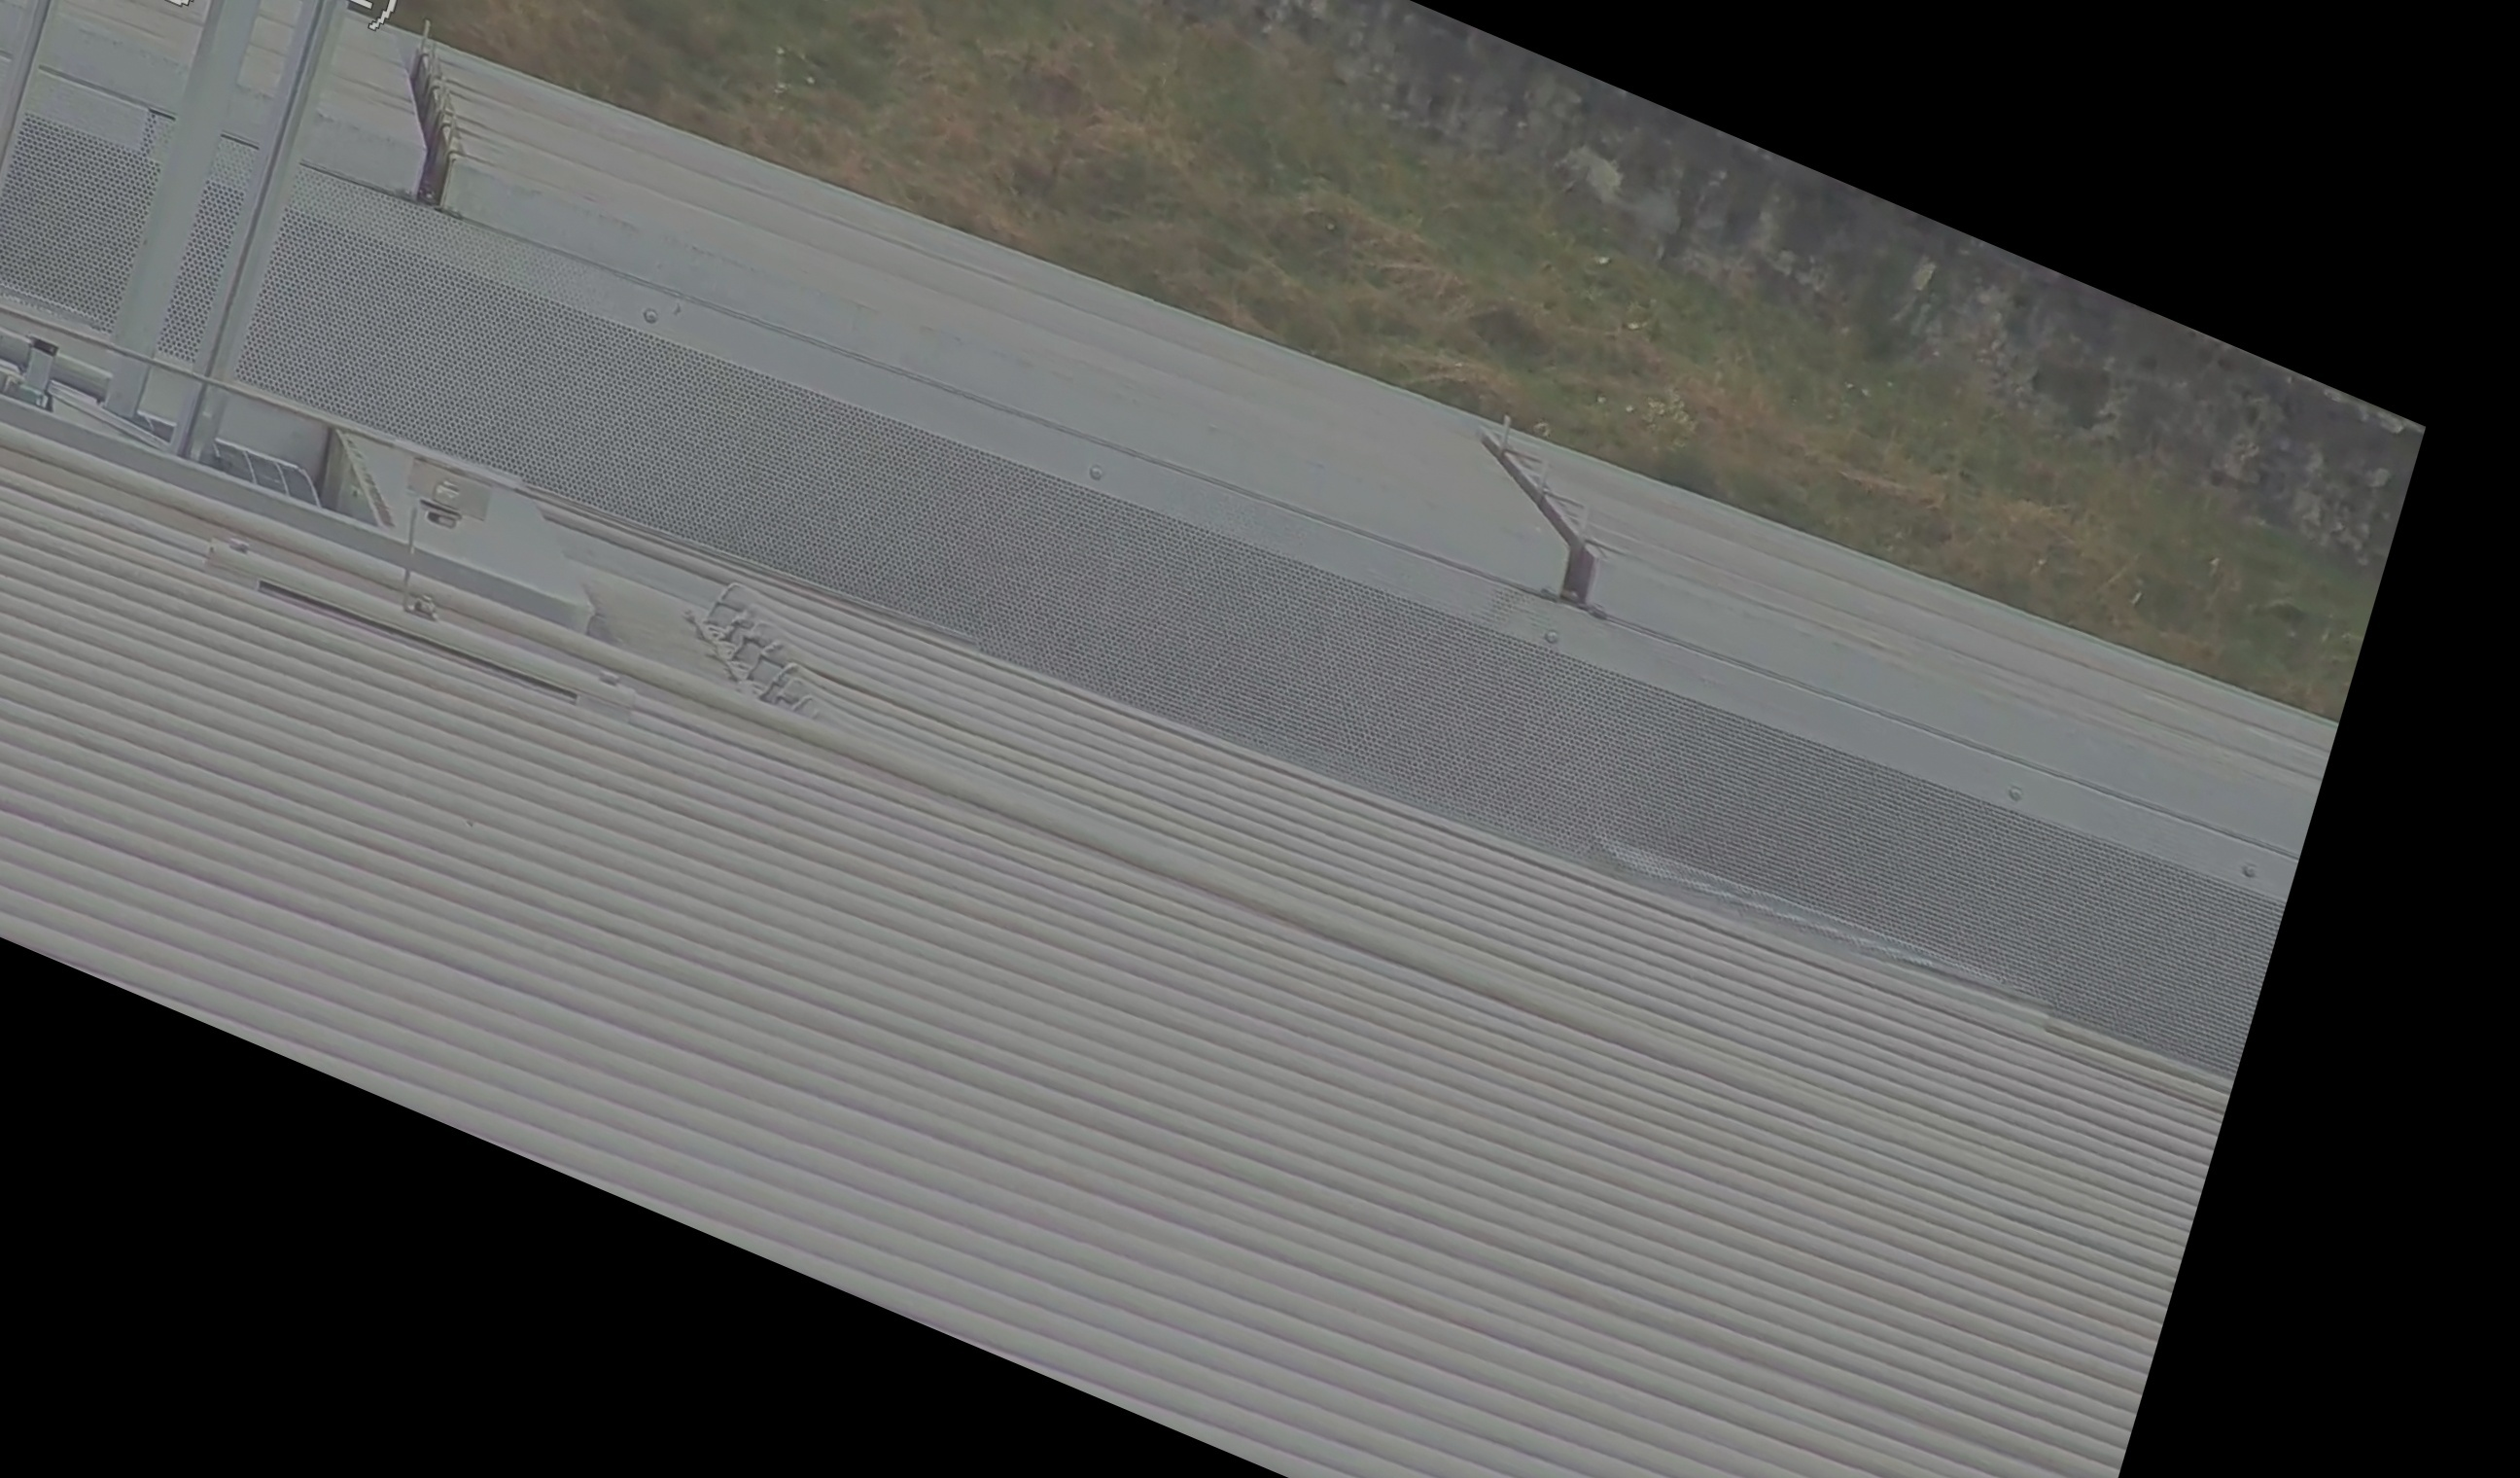Other: (332, 0, 501, 211)
